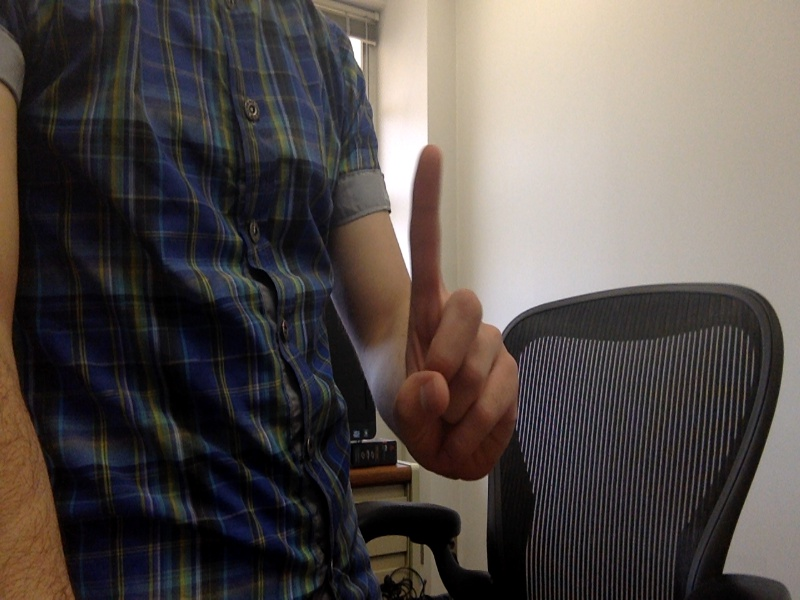1-hand: (392, 147, 519, 480)
